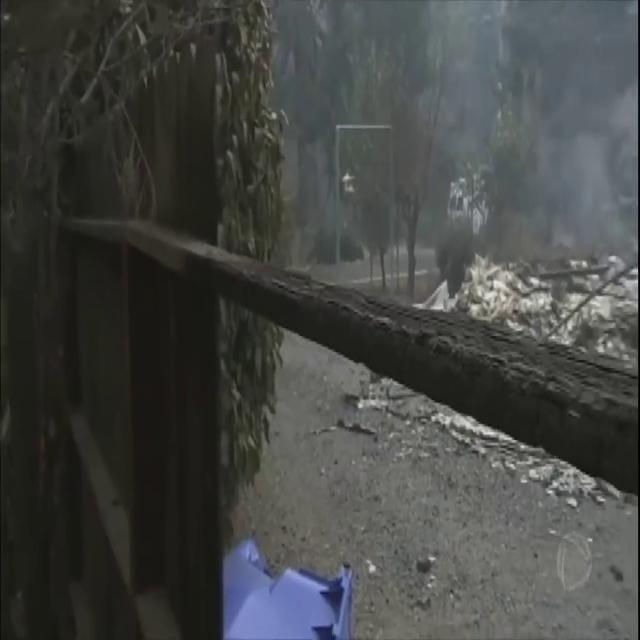Smoke: (518, 73, 633, 253)
